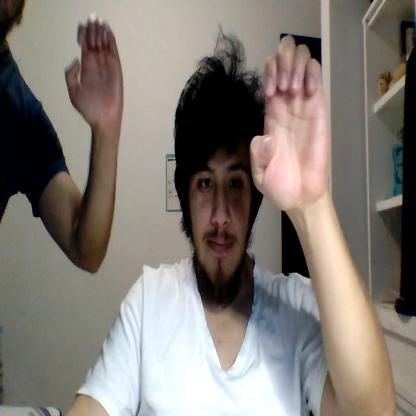E: (251, 35, 329, 209), (64, 13, 124, 128)
